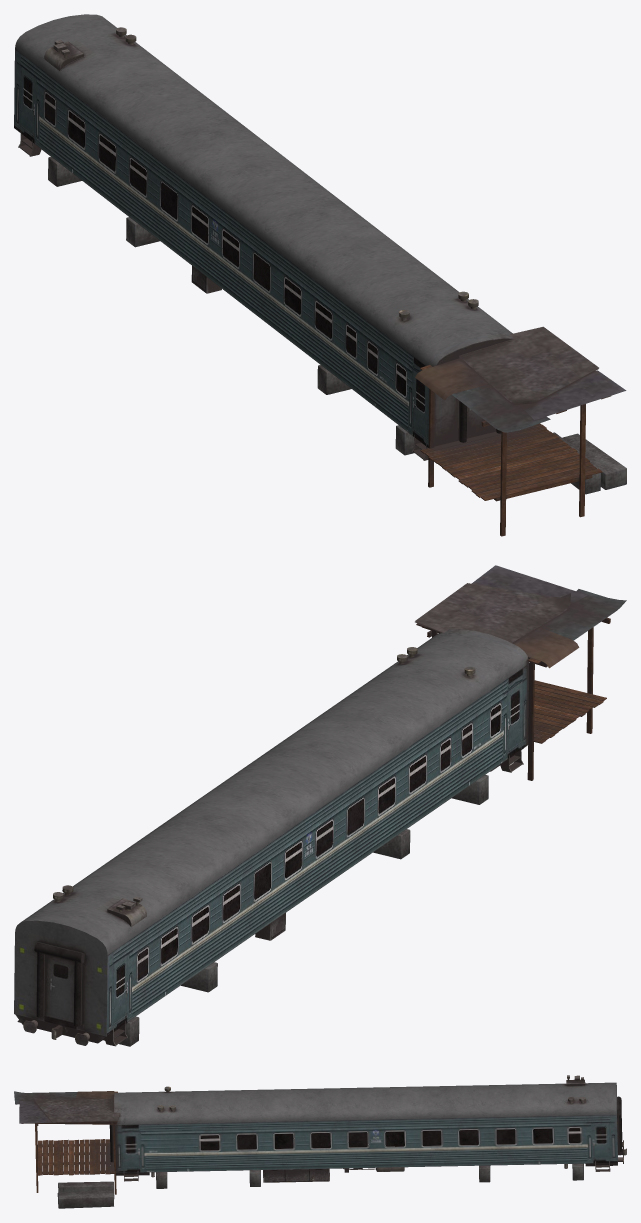
File: improvised_house.glb
The picture shows the model from 3 angles, top to bottom: view 1: azimuth 30°, elevation 25°; view 2: azimuth 150°, elevation 25°; view 3: azimuth 270°, elevation 25°; orthographic projection. The views are drawn at different scales.
Visible parts, largest first — view 1: Merged; view 2: Merged; view 3: Merged.
Boxes of the visible parts, <box> form: Merged: <box>14,14,626,536</box>; Merged: <box>14,565,626,1046</box>; Merged: <box>14,1075,626,1208</box>.
Size of the model in its own units: 5.63 by 5.09 by 29.74.
Materials: 1 (1 with a texture image).
